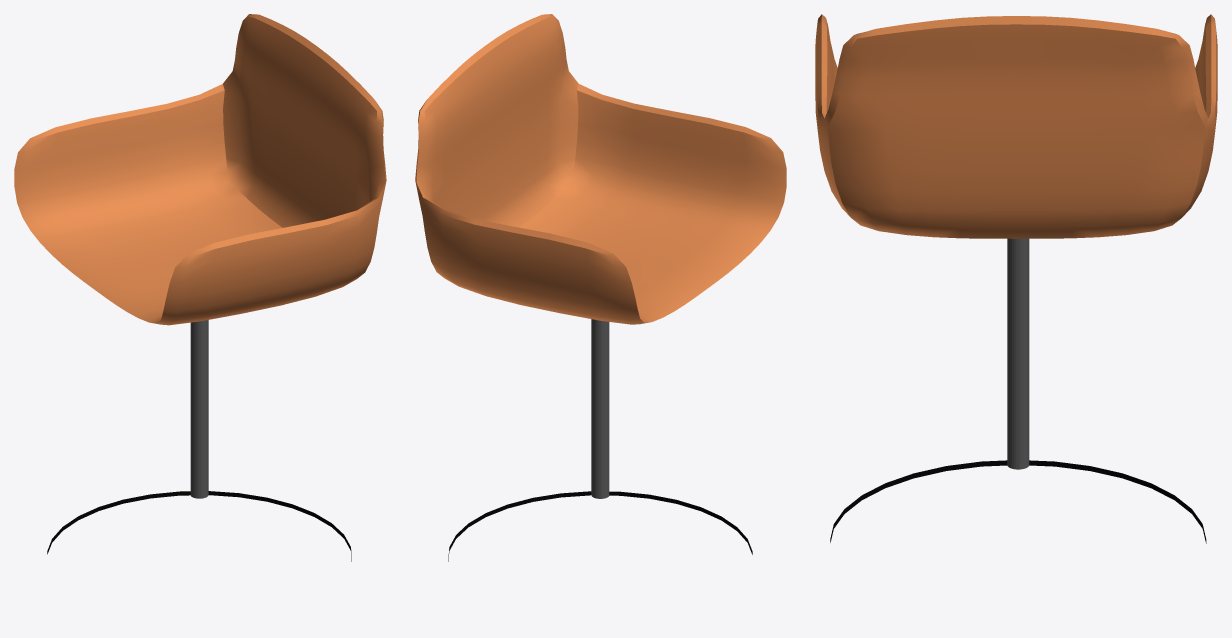
Rendered from chair_kitchen.glb.
3 renders of one model, left to right at view 1: azimuth 30°, elevation 25°; view 2: azimuth 150°, elevation 25°; view 3: azimuth 270°, elevation 25°, orthographic. The views are drawn at different scales.
Parts seen in each view (by area): view 1: Cube_3, Circle_2, Circle.001_4; view 2: Cube_3, Circle_2, Circle.001_4; view 3: Cube_3, Circle_2, Circle.001_4.
Boxes of the visible parts, x1=… form: Cube_3: x1=14, y1=14, x2=386, y2=325; Circle_2: x1=190, y1=320, x2=208, y2=498; Circle.001_4: x1=47, y1=491, x2=351, y2=561; Cube_3: x1=415, y1=14, x2=786, y2=324; Circle_2: x1=591, y1=319, x2=609, y2=498; Circle.001_4: x1=448, y1=491, x2=752, y2=561; Cube_3: x1=815, y1=14, x2=1217, y2=238; Circle_2: x1=1007, y1=238, x2=1029, y2=469; Circle.001_4: x1=830, y1=460, x2=1206, y2=543.
Size of the model in its own units: 1.3 by 2.29 by 1.4.
